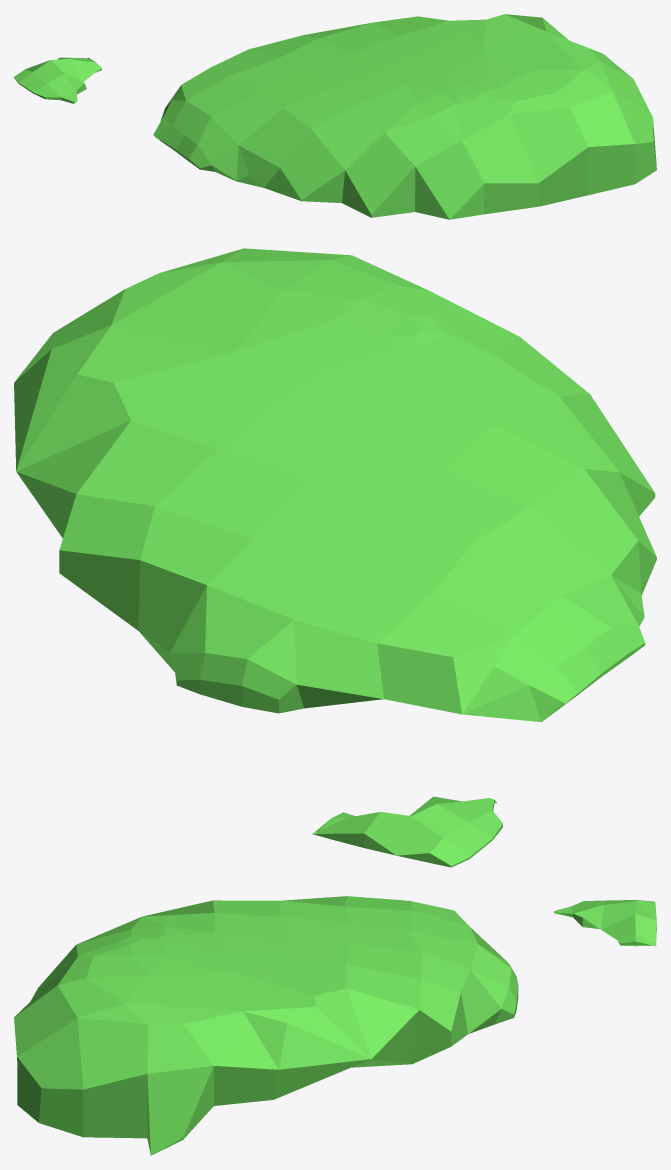
Rendered from FBX_Slime_Drop.fbx.
3 renders of one model, top to bottom at view 1: azimuth 30°, elevation 25°; view 2: azimuth 150°, elevation 25°; view 3: azimuth 270°, elevation 25°, orthographic. The views are drawn at different scales.
Parts seen in each view (by area): view 1: slime2; view 2: slime2; view 3: slime2.
Boxes of the visible parts, <box> form: slime2: <box>14,14,656,219</box>; slime2: <box>14,248,656,867</box>; slime2: <box>14,896,656,1155</box>.
Size of the model in its own units: 0.3375 by 0.0687 by 0.3664.
